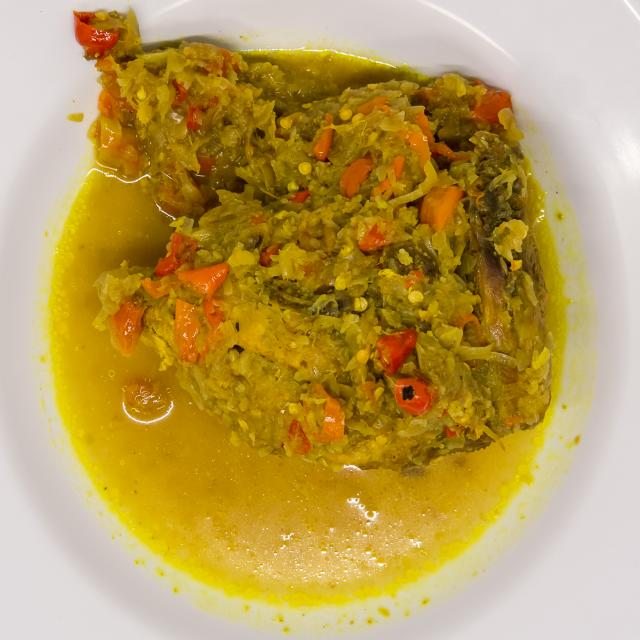Ayam-Betutu: (62, 7, 576, 484)
